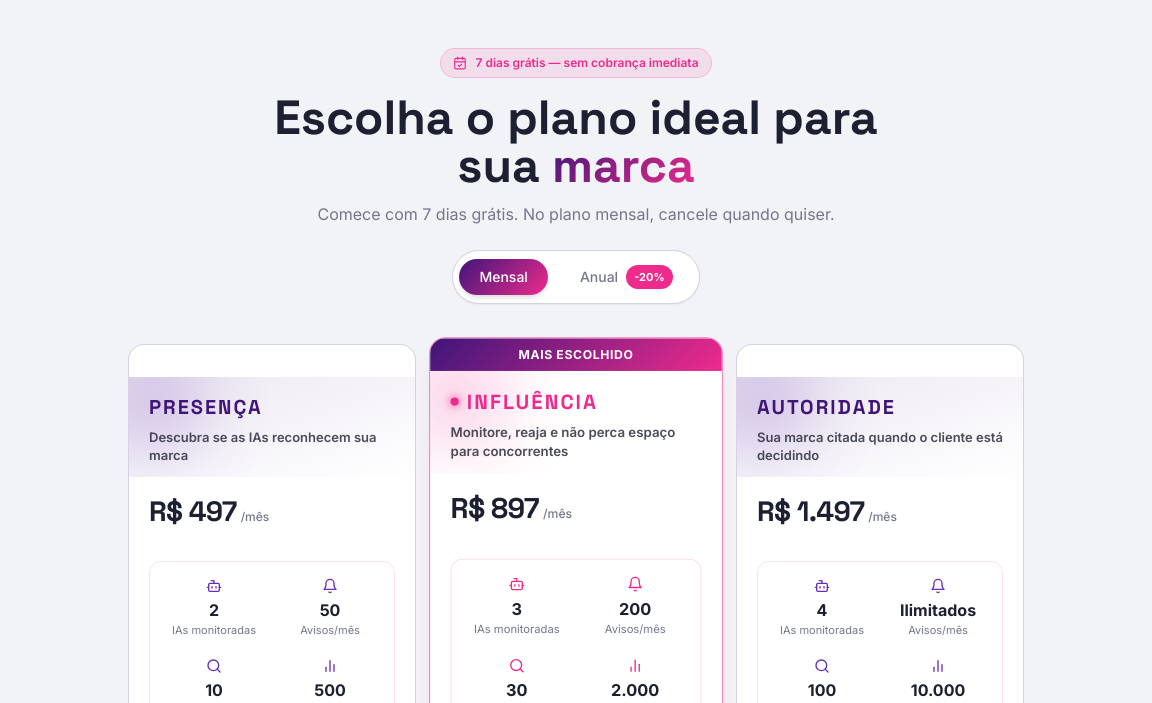
Test: P55 — escolha e confirmação › trial=true, annual=true: explica cobrança e compromisso
Step 1. Click the button "Anual -20%" → (626, 277), box x1=560 y1=257 x2=693 y2=297
(page scrolled)
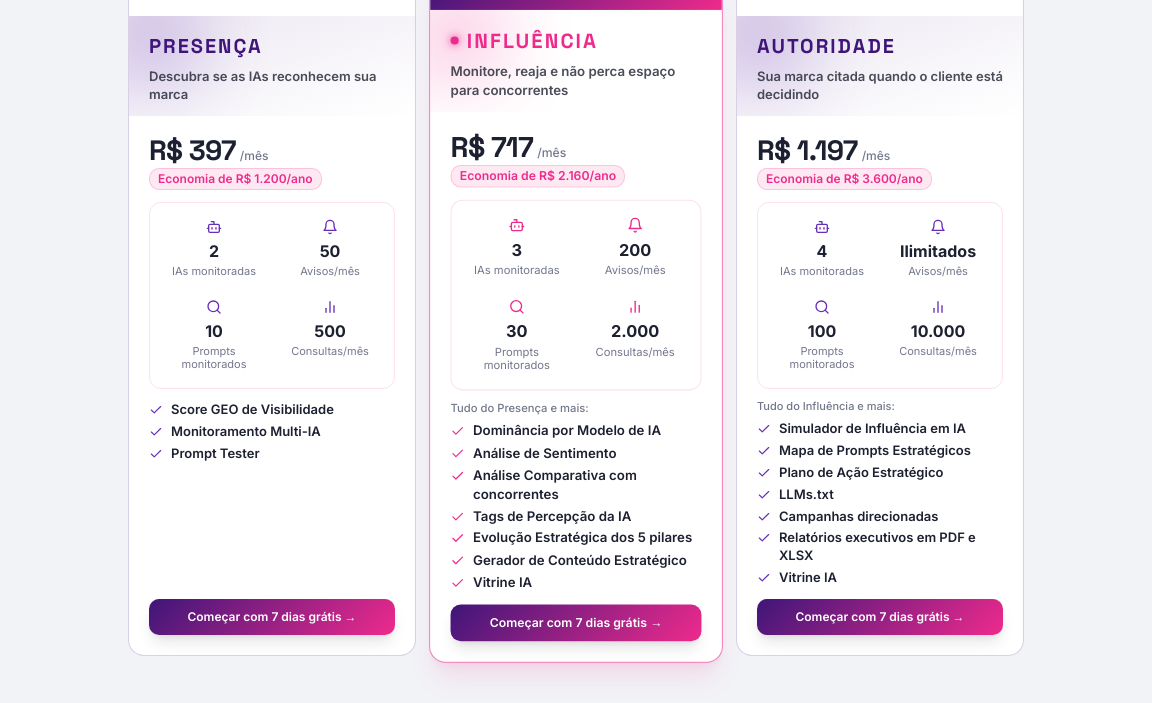
Step 2. Click the button "Começar com 7 dias grátis →" below "Prompt Tester" → (272, 617), box x1=149 y1=599 x2=395 y2=635
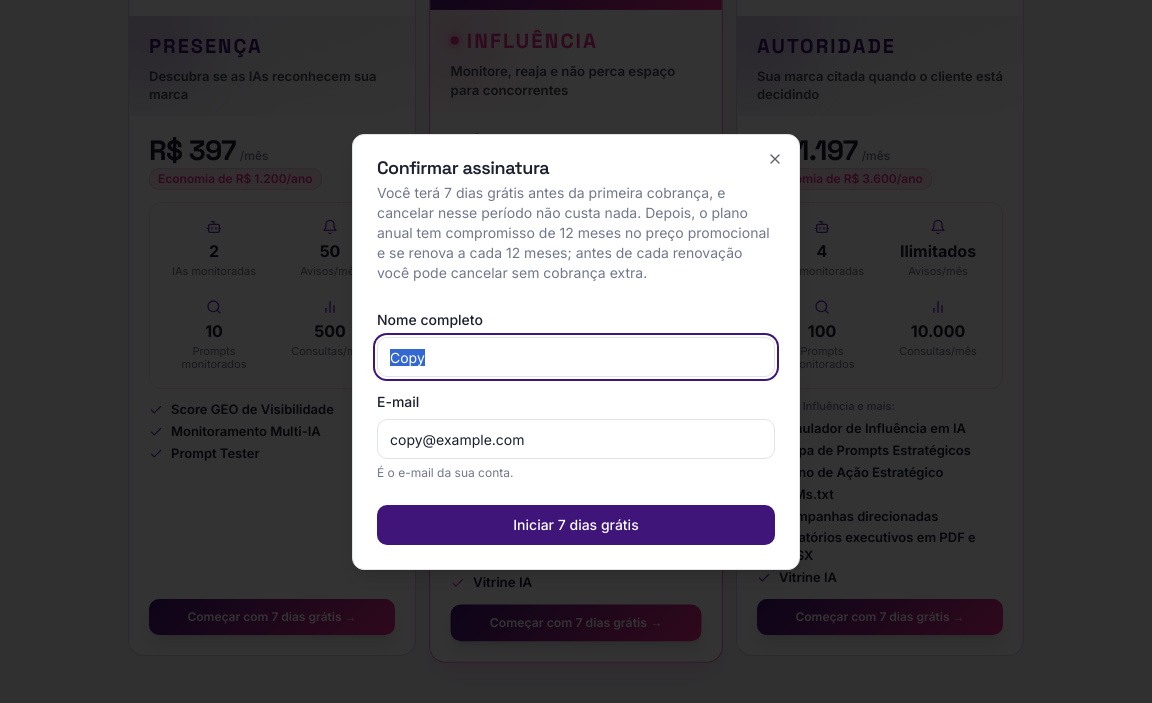
expect the text "Você terá 7 dias grátis antes da primeira cobrança, e cancelar nesse período não custa nada. Depois, o plano anual tem c" is shown: met, box x1=377 y1=184 x2=770 y2=281
